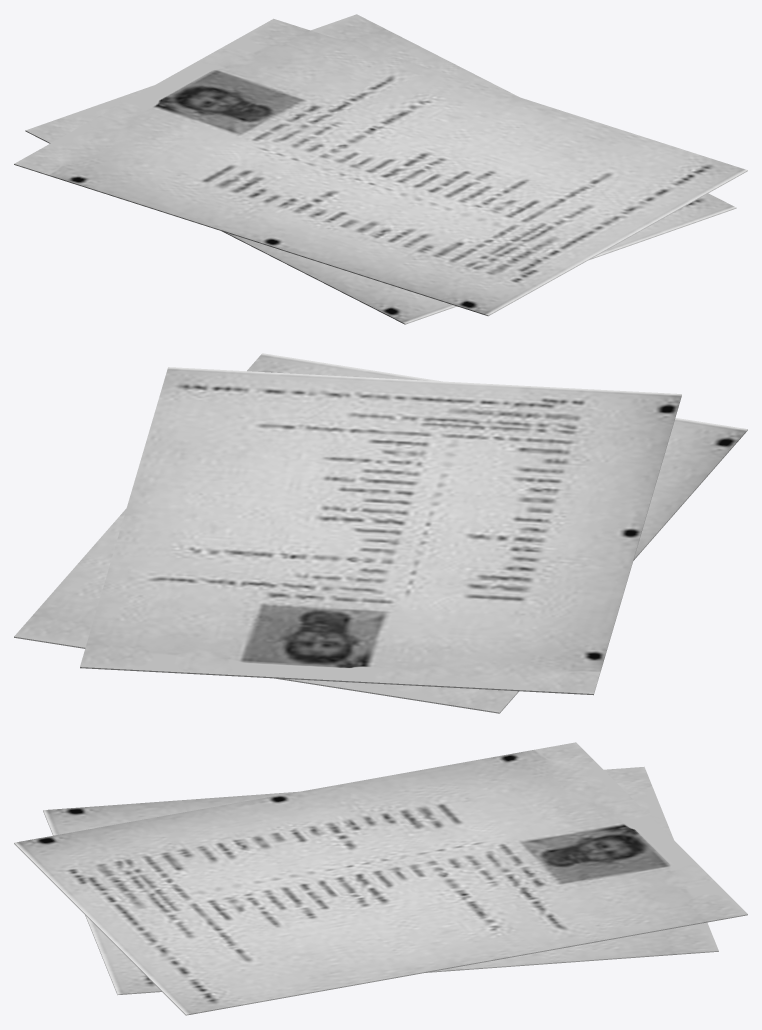
Rendered from Papers.FBX.
3 views of the same model, one above another, from view 1: azimuth 30°, elevation 25°; view 2: azimuth 150°, elevation 25°; view 3: azimuth 270°, elevation 25° (orthographic). The views are drawn at different scales.
Visible parts, largest first — view 1: Papers; view 2: Papers; view 3: Papers.
Boxes of the visible parts, x1,y1,x2,y2 form: Papers: (14,14,747,324); Papers: (14,353,747,713); Papers: (14,742,747,1015).
Bounding box in the file's own units: 30.63 × 0.1561 × 34.89.
